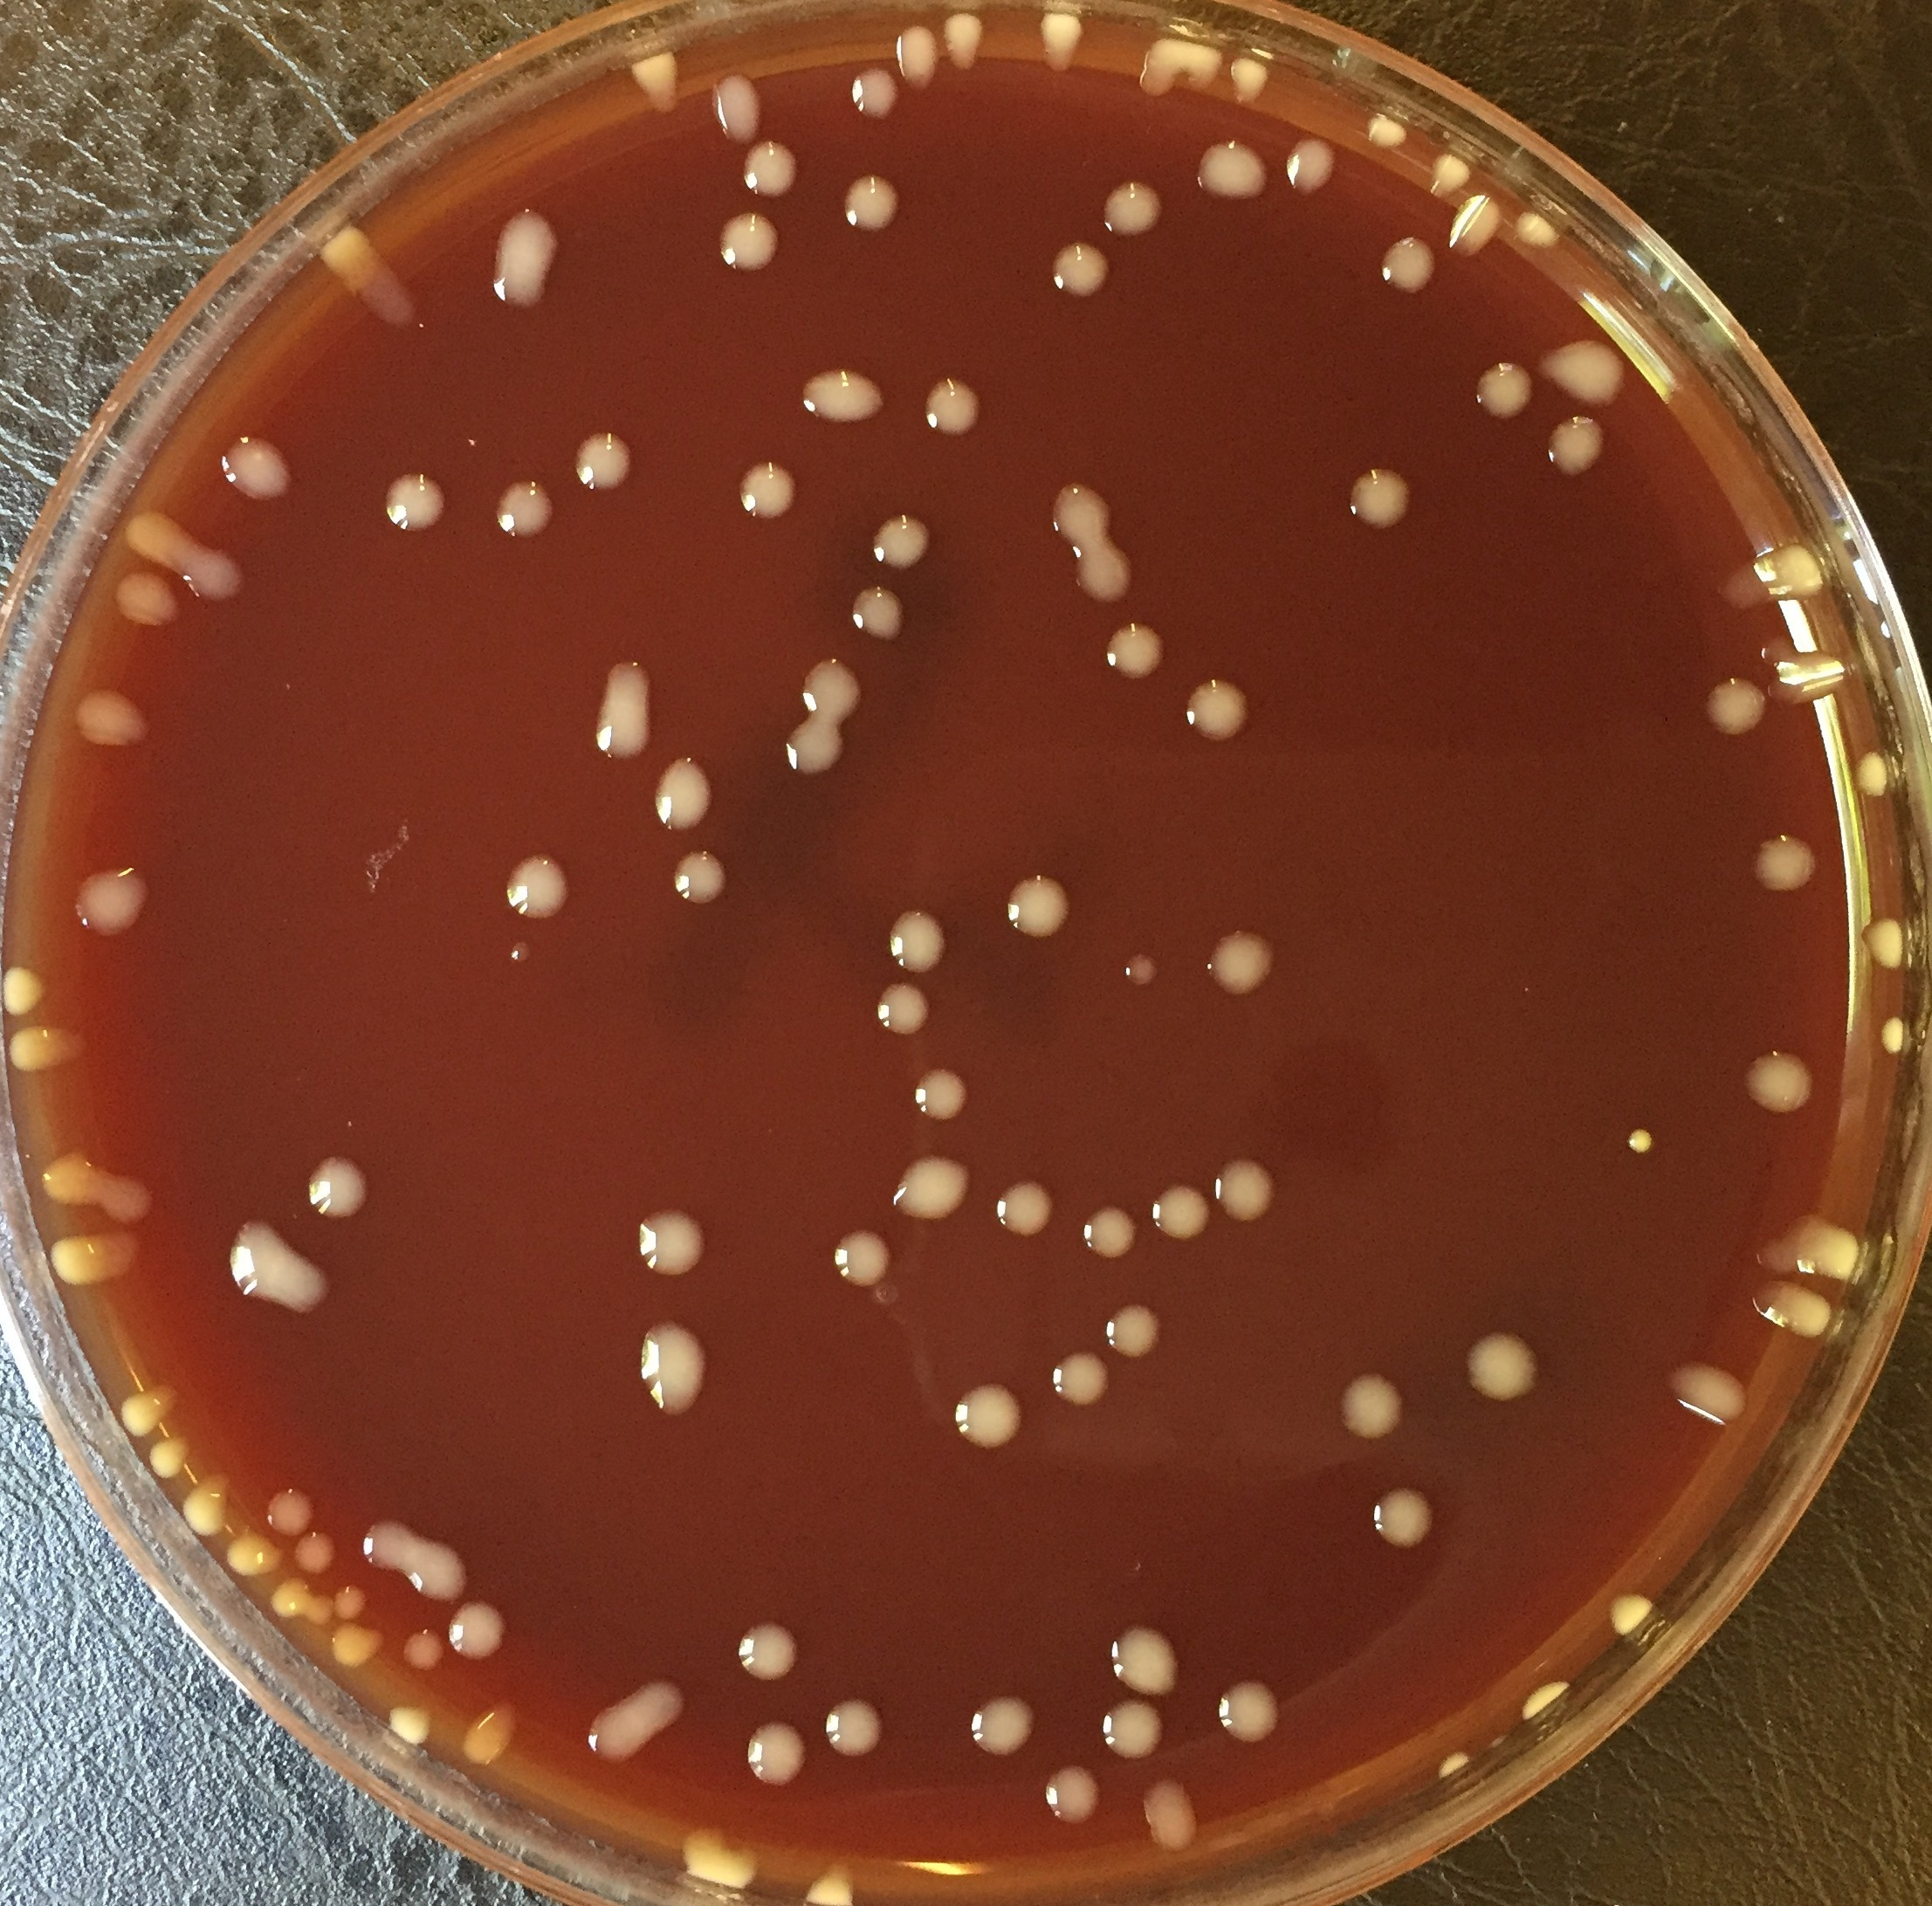sp19: (126, 510, 257, 620), (229, 1217, 344, 1330), (321, 223, 433, 335), (1752, 1208, 1874, 1293), (1536, 330, 1655, 415), (1747, 634, 1859, 721), (1702, 536, 1820, 616), (487, 208, 572, 314), (51, 1222, 171, 1290), (215, 429, 307, 517), (668, 1819, 768, 1897), (1337, 1368, 1426, 1456), (1731, 1042, 1827, 1122), (1459, 1327, 1559, 1402), (1653, 1351, 1759, 1421), (1742, 1274, 1848, 1344), (1101, 1618, 1196, 1697), (630, 1201, 724, 1279), (792, 363, 901, 428), (639, 1316, 709, 1416), (586, 662, 658, 758), (942, 1379, 1033, 1454), (73, 681, 164, 756), (881, 1150, 977, 1220), (72, 869, 166, 939), (651, 756, 724, 841), (1201, 929, 1291, 997), (375, 470, 464, 538), (1696, 672, 1777, 747), (456, 1700, 538, 1773), (1208, 1154, 1291, 1225), (1140, 30, 1225, 99), (1466, 358, 1553, 424), (740, 1716, 817, 1791), (1209, 1679, 1293, 1747), (969, 1691, 1042, 1768), (1000, 869, 1079, 941), (1136, 1775, 1204, 1857), (1747, 829, 1833, 894), (730, 452, 805, 525), (716, 208, 791, 281), (1182, 677, 1258, 749), (1197, 136, 1274, 208), (1541, 414, 1618, 483), (826, 1227, 899, 1299), (777, 719, 848, 792), (628, 45, 700, 119), (1367, 1484, 1445, 1550), (881, 902, 960, 969), (1148, 1178, 1220, 1250), (571, 429, 644, 499), (1068, 541, 1140, 611), (906, 375, 990, 435), (820, 1695, 897, 1759), (1037, 1758, 1113, 1822), (1438, 189, 1503, 265), (1044, 1344, 1113, 1414), (1098, 175, 1168, 244), (1098, 1693, 1166, 1765), (1051, 483, 1124, 550), (302, 1154, 375, 1220), (3, 1025, 92, 1079), (991, 1175, 1061, 1243), (1349, 464, 1417, 534), (443, 1601, 515, 1667), (707, 70, 771, 143), (112, 571, 187, 634), (506, 854, 576, 920), (94, 1166, 164, 1232), (1051, 234, 1115, 305), (115, 1375, 187, 1440), (730, 1618, 798, 1684), (1096, 1297, 1164, 1363), (799, 662, 874, 721), (1033, 9, 1093, 84), (581, 1697, 639, 1773), (743, 138, 810, 204), (1286, 131, 1349, 201), (410, 1529, 469, 1602), (490, 478, 557, 543), (888, 26, 951, 94), (30, 1152, 99, 1213), (848, 579, 911, 646), (841, 169, 904, 236), (173, 1471, 236, 1538), (354, 1522, 405, 1604), (258, 1480, 325, 1541), (1380, 230, 1436, 302), (1098, 620, 1166, 677), (1077, 1203, 1147, 1258), (222, 1529, 298, 1580), (906, 1066, 969, 1128), (668, 850, 733, 909), (848, 59, 908, 124), (328, 1618, 396, 1674), (864, 513, 927, 572), (1841, 745, 1902, 805), (632, 1662, 688, 1724), (1855, 909, 1909, 974), (798, 1854, 862, 1906), (1504, 204, 1565, 258), (941, 10, 997, 68), (1222, 54, 1279, 110), (1600, 1592, 1668, 1639), (869, 981, 925, 1037), (1422, 147, 1478, 201), (1515, 1676, 1576, 1724), (1360, 112, 1421, 159), (290, 1524, 346, 1574), (145, 1435, 209, 1478), (400, 1621, 443, 1681), (379, 1698, 436, 1742), (1429, 1742, 1489, 1782), (3, 963, 45, 1019), (1874, 1014, 1918, 1066), (325, 1580, 370, 1621), (271, 1573, 309, 1621), (497, 941, 546, 974), (1119, 948, 1161, 986), (302, 1597, 340, 1632)
